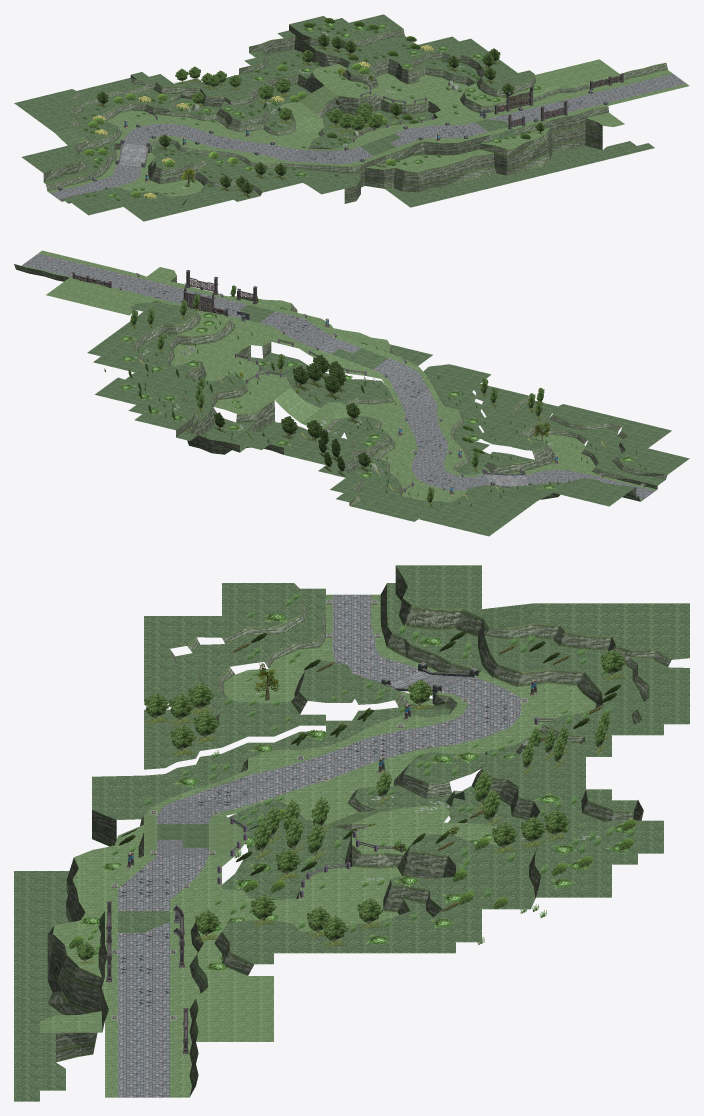
Rendered from East5.obj.
3 renders of one model, top to bottom at view 1: azimuth 30°, elevation 25°; view 2: azimuth 150°, elevation 25°; view 3: azimuth 270°, elevation 25°, orthographic. The views are drawn at different scales.
Visible parts, largest first — view 1: Object.148, Object.149, Object.150, Object.186, Object.151, Object.55, Object.61, Object.9, Object.4, Object.98, Object.154, Object.57 (+97 smaller); view 2: Object.61, Object.55, Object.73, Object.84, Object.63, Object.66, Object.83, Object.65, Object.70, Object.8, Object.183, Object.67 (+65 smaller); view 3: Object.55, Object.61, Object.70, Object.57, Object.63, Object.84, Object.73, Object.66, Object.69, Object.65, Object.77, Object.96 (+92 smaller).
Part boxes in pixels (x1,y1,x2,y2): Object.148: [442, 134, 507, 182]; Object.149: [388, 141, 453, 192]; Object.150: [538, 111, 594, 160]; Object.186: [506, 122, 549, 175]; Object.151: [352, 154, 404, 200]; Object.55: [28, 102, 101, 132]; Object.61: [62, 188, 134, 215]; Object.9: [285, 95, 324, 138]; Object.4: [373, 76, 434, 102]; Object.98: [550, 145, 607, 170]; Object.154: [260, 25, 327, 62]; Object.57: [54, 127, 117, 163]; Object.61: [603, 445, 689, 485]; Object.55: [447, 494, 536, 524]; Object.73: [122, 385, 190, 420]; Object.84: [578, 413, 657, 445]; Object.63: [454, 407, 522, 441]; Object.66: [431, 370, 489, 407]; Object.83: [527, 403, 601, 433]; Object.65: [458, 434, 543, 474]; Object.70: [153, 366, 234, 403]; Object.8: [245, 373, 302, 409]; Object.183: [145, 316, 224, 356]; Object.67: [467, 386, 545, 418]; Object.55: [530, 603, 637, 659]; Object.61: [222, 583, 325, 635]; Object.70: [430, 843, 533, 889]; Object.57: [430, 603, 533, 676]; Object.63: [218, 714, 332, 764]; Object.84: [144, 627, 229, 677]; Object.73: [534, 831, 637, 875]; Object.66: [116, 758, 221, 808]; Object.69: [430, 887, 535, 931]; Object.65: [326, 660, 433, 721]; Object.77: [534, 779, 637, 823]; Object.96: [222, 931, 325, 964].
Bounding box in the file's own units: 196 × 19.25 × 104.
Materials: 21 (21 with a texture image).
